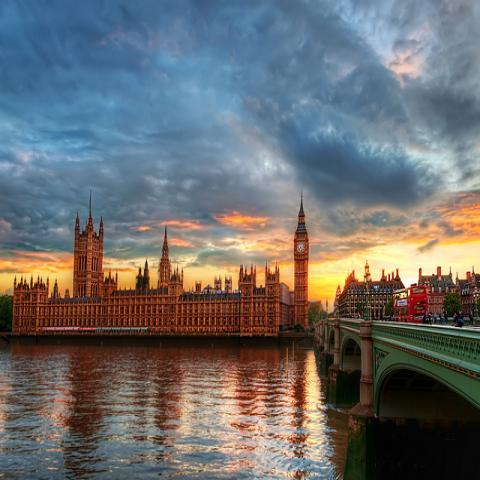bus: (393, 286, 428, 323)
